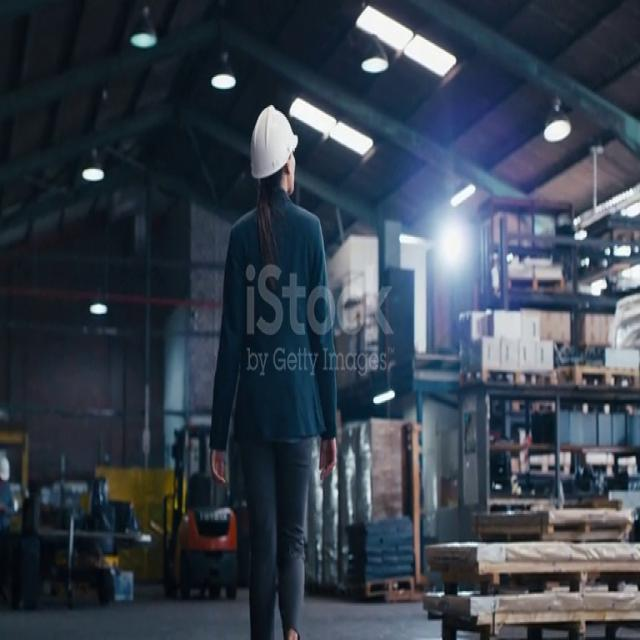capacete: (245, 92, 300, 192)
